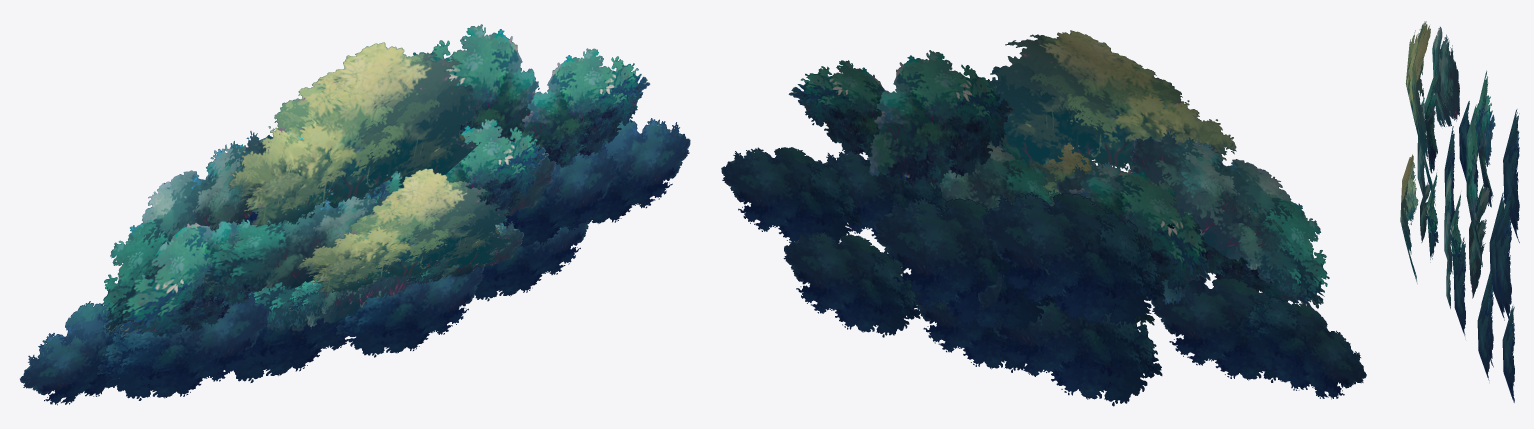
The model's file is shuye.FBX.
3 views of the same model, side by side, from view 1: azimuth 30°, elevation 25°; view 2: azimuth 150°, elevation 25°; view 3: azimuth 270°, elevation 25° (orthographic). The views are drawn at different scales.
Visible parts, largest first — view 1: sucai_16; view 2: sucai_16; view 3: sucai_16.
Part boxes in pixels (x1,y1,x2,y2): sucai_16: [20, 24, 690, 405]; sucai_16: [721, 30, 1366, 406]; sucai_16: [1400, 21, 1519, 402].
Bounding box in the file's own units: 1431 × 718 × 249.
